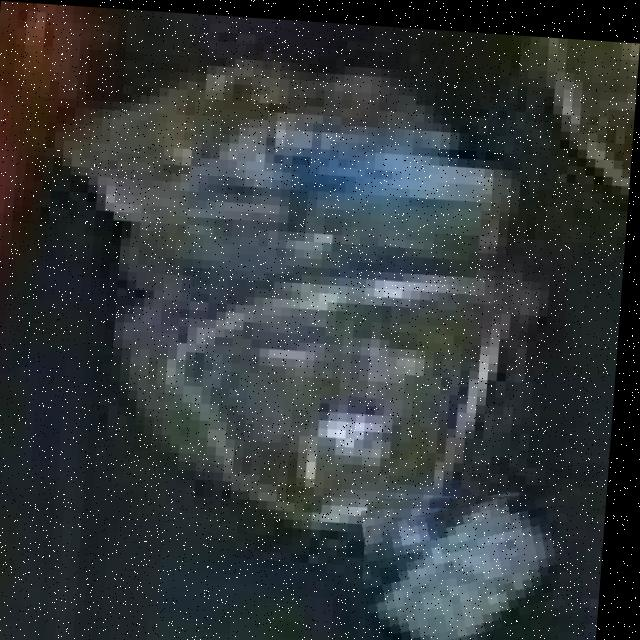plasticbottlecap: (366, 474, 597, 640)
